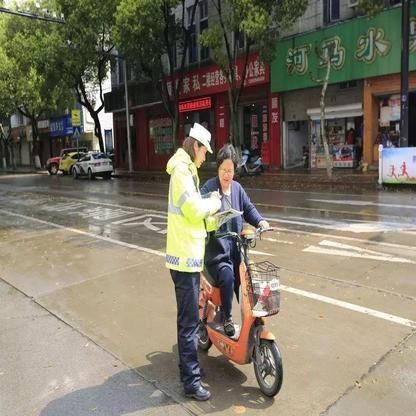target: (196, 143, 286, 399)
